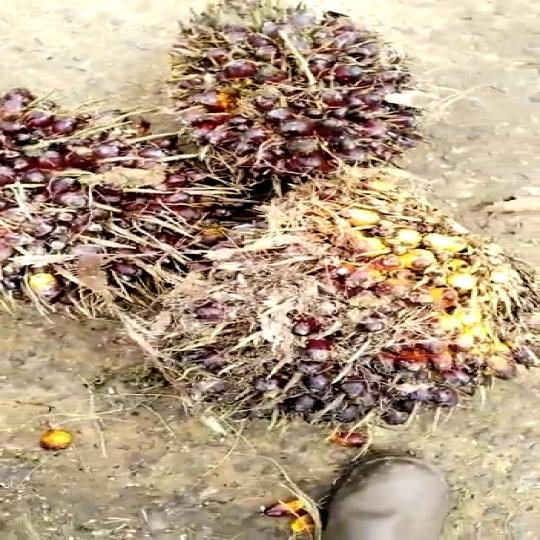kurang masak: (154, 161, 540, 423), (159, 0, 466, 186), (0, 76, 215, 305)
